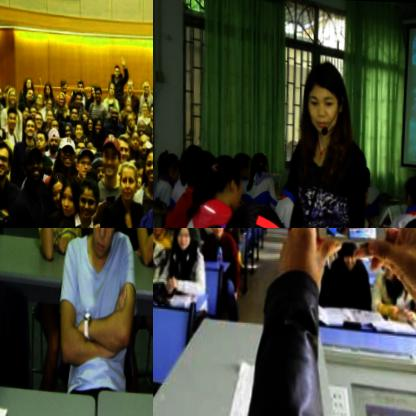head: (302, 64, 348, 129), (204, 155, 243, 213), (221, 202, 290, 228), (87, 228, 129, 258), (75, 173, 100, 218), (177, 139, 203, 180), (189, 155, 215, 194), (59, 177, 84, 217), (100, 137, 122, 178), (155, 153, 181, 185), (119, 162, 139, 200), (23, 147, 44, 183), (48, 173, 68, 209), (336, 241, 359, 272), (57, 137, 78, 170), (249, 149, 270, 182), (400, 173, 416, 213), (232, 149, 251, 181), (75, 146, 93, 177), (90, 156, 109, 185), (172, 228, 194, 252), (115, 132, 131, 158), (0, 140, 11, 175), (143, 147, 153, 184), (46, 127, 60, 151), (136, 133, 151, 154), (33, 129, 47, 150), (4, 108, 17, 130), (23, 116, 35, 139), (107, 104, 119, 124), (128, 131, 140, 150), (93, 115, 103, 134), (33, 113, 44, 130), (6, 87, 17, 103), (28, 103, 39, 119), (124, 77, 135, 92), (61, 120, 71, 136), (124, 113, 134, 129), (48, 118, 58, 133), (136, 119, 146, 134), (74, 121, 83, 137), (207, 228, 225, 236), (70, 105, 79, 120), (85, 115, 94, 130), (140, 100, 149, 115), (56, 92, 65, 106), (25, 89, 34, 103), (106, 81, 115, 95), (141, 79, 150, 93), (34, 90, 42, 105), (94, 86, 102, 101), (42, 83, 51, 96), (123, 104, 132, 117), (21, 104, 29, 118), (45, 108, 52, 123), (44, 97, 52, 110), (73, 92, 81, 105), (80, 110, 88, 123), (147, 102, 153, 118), (76, 79, 83, 92), (123, 96, 131, 107), (113, 65, 119, 78), (148, 127, 153, 142), (59, 79, 65, 91), (25, 76, 31, 88), (90, 84, 96, 96)
